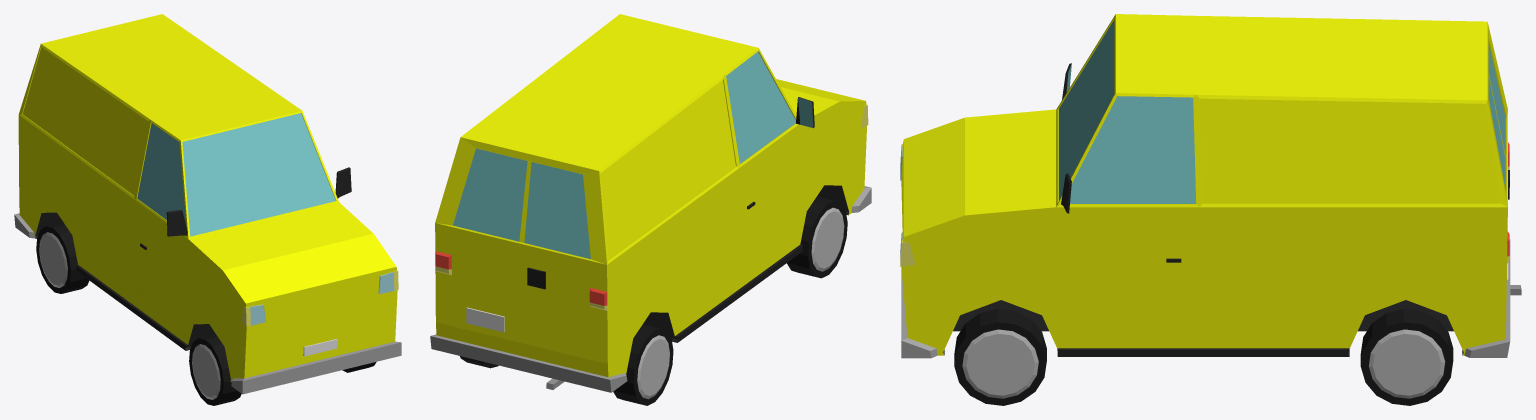
The model's file is lp_car4.fbx.
3 renders of one model, left to right at view 1: azimuth 30°, elevation 25°; view 2: azimuth 150°, elevation 25°; view 3: azimuth 270°, elevation 25°, orthographic. The views are drawn at different scales.
Parts seen in each view (by area): view 1: Car, wheel_BR, wheel_FR; view 2: Car, wheel_FR, wheel_BR; view 3: Car, wheel_BL, wheel_FL.
Part boxes in pixels (x1,y1,x2,y2): Car: (14, 14, 401, 394); wheel_BR: (36, 222, 89, 293); wheel_FR: (189, 334, 241, 405); Car: (430, 14, 871, 392); wheel_FR: (787, 197, 847, 278); wheel_BR: (613, 324, 673, 405); Car: (900, 14, 1521, 358); wheel_BL: (1360, 309, 1453, 405); wheel_FL: (954, 309, 1046, 405).
Bounding box in the file's own units: 243 × 288 × 537.
